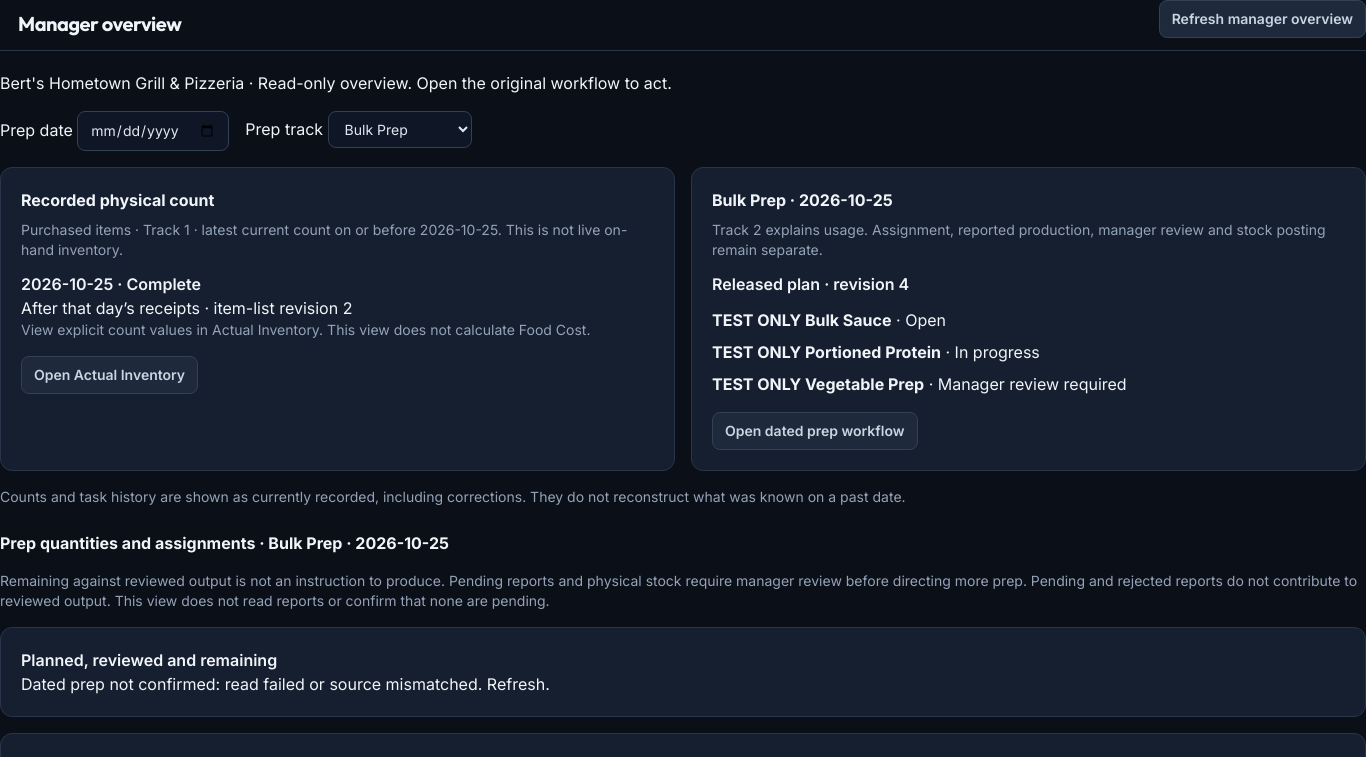
Scenario: blank date refuses reads and actions, with no stale result shown
Clear the date field labelled "Prep date": [153, 131] box x1=77 y1=111 x2=229 y2=151
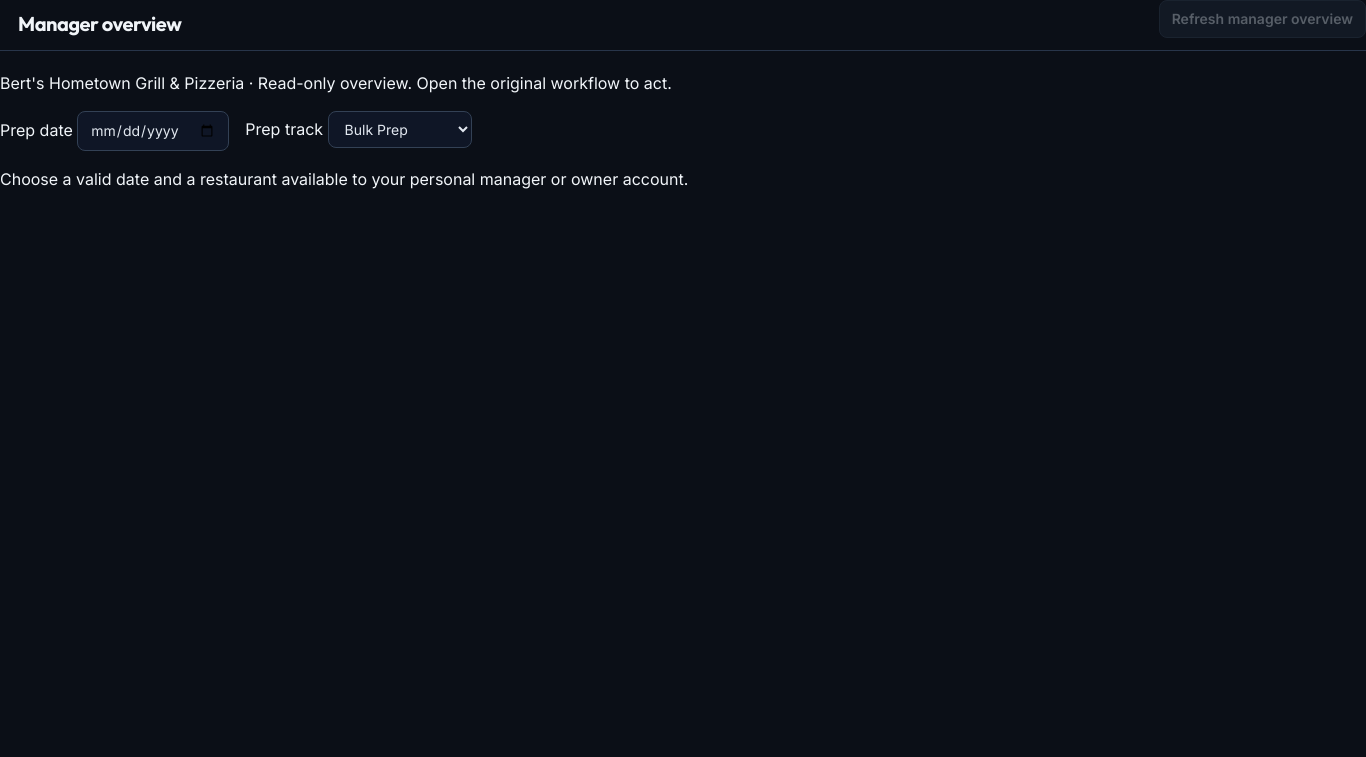
Result: the text "TEST ONLY Bulk Sauce" is gone
Result: the button "Refresh manager overview" is disabled at x1=1159 y1=0 x2=1365 y2=38
